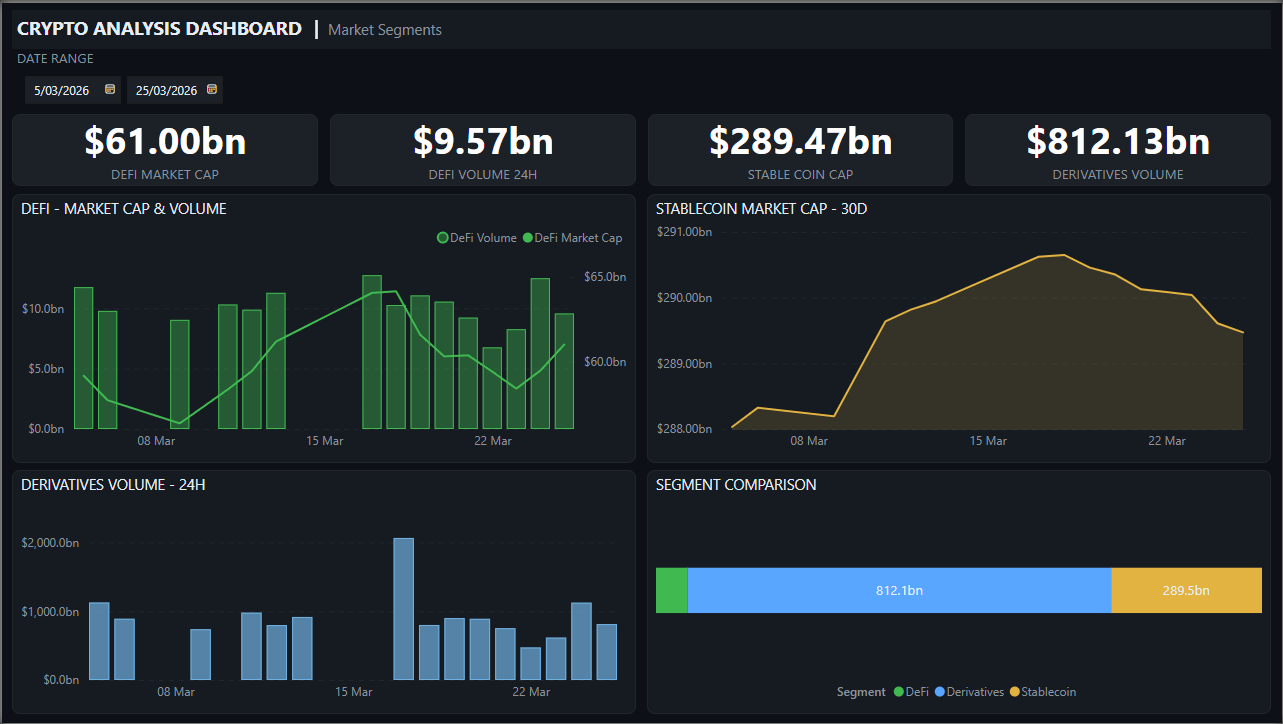

What the dashboard file says about the page in this screenshot:
{"tool":"powerbi","page":{"name":"Market Segments","canvas":[1280,720],"ordinal":3},"visuals":[{"type":"slicer","title":"DATE RANGE","fields":{"Values":["dim_date.Date"]},"box":[10,46,1259,65],"z":0},{"type":"cardVisual","fields":{"Data":["_Measures.Latest DeFi Market Cap"]},"box":[10,111,306,72],"z":1000},{"type":"cardVisual","fields":{"Data":["_Measures.Latest DeFi Volume 24H"]},"box":[328,111.1,305.7,71.7],"z":2000},{"type":"cardVisual","fields":{"Data":["_Measures.Latest Stablecoin Cap"]},"box":[645.6,111.1,305.7,71.7],"z":3000},{"type":"cardVisual","fields":{"Data":["_Measures.Latest Derivatives Volume"]},"box":[963,111,306,72],"z":4000},{"type":"lineClusteredColumnComboChart","title":"DEFI - MARKET CAP & VOLUME","fields":{"Category":["dim_date.Date"],"Y":["Max(fact_global_market.global_defi_volume_24h)"],"Y2":["Max(fact_global_market.global_defi_market_cap)"]},"box":[10,191,624,269],"z":5000},{"type":"areaChart","title":"STABLECOIN MARKET CAP - 30D","fields":{"Category":["dim_date.Date"],"Y":["Max(fact_global_market.global_stablecoin_market_cap)"]},"box":[645,191,624,269],"z":6000},{"type":"clusteredColumnChart","title":"DERIVATIVES VOLUME - 24H","fields":{"Category":["dim_date.Date"],"Y":["Sum(fact_global_market.global_derivatives_volume_24h)"]},"box":[10,467,624,244],"z":7000},{"type":"hundredPercentStackedBarChart","title":"SEGMENT COMPARISON","fields":{"Y":["_Measures.Segment Value"],"Series":["Segment Labels.Segment"]},"box":[645,467,624,244],"z":8000},{"type":"textbox","box":[10,7,1259,39],"z":9000}]}

Visuals, with their boxes in screenshot pixels (x1, y1, x2, y2), scaled from the page's 1280x720 canvas onto the 1283x724 screenshot:
"DATE RANGE" slicer: left=10, top=46, right=1272, bottom=112
cardVisual - _Measures.Latest DeFi Market Cap: left=10, top=112, right=317, bottom=184
cardVisual - _Measures.Latest DeFi Volume 24H: left=329, top=112, right=635, bottom=184
cardVisual - _Measures.Latest Stablecoin Cap: left=647, top=112, right=954, bottom=184
cardVisual - _Measures.Latest Derivatives Volume: left=965, top=112, right=1272, bottom=184
"DEFI - MARKET CAP & VOLUME" lineClusteredColumnComboChart: left=10, top=192, right=635, bottom=463
"STABLECOIN MARKET CAP - 30D" areaChart: left=647, top=192, right=1272, bottom=463
"DERIVATIVES VOLUME - 24H" clusteredColumnChart: left=10, top=470, right=635, bottom=715
"SEGMENT COMPARISON" hundredPercentStackedBarChart: left=647, top=470, right=1272, bottom=715
textbox: left=10, top=7, right=1272, bottom=46
